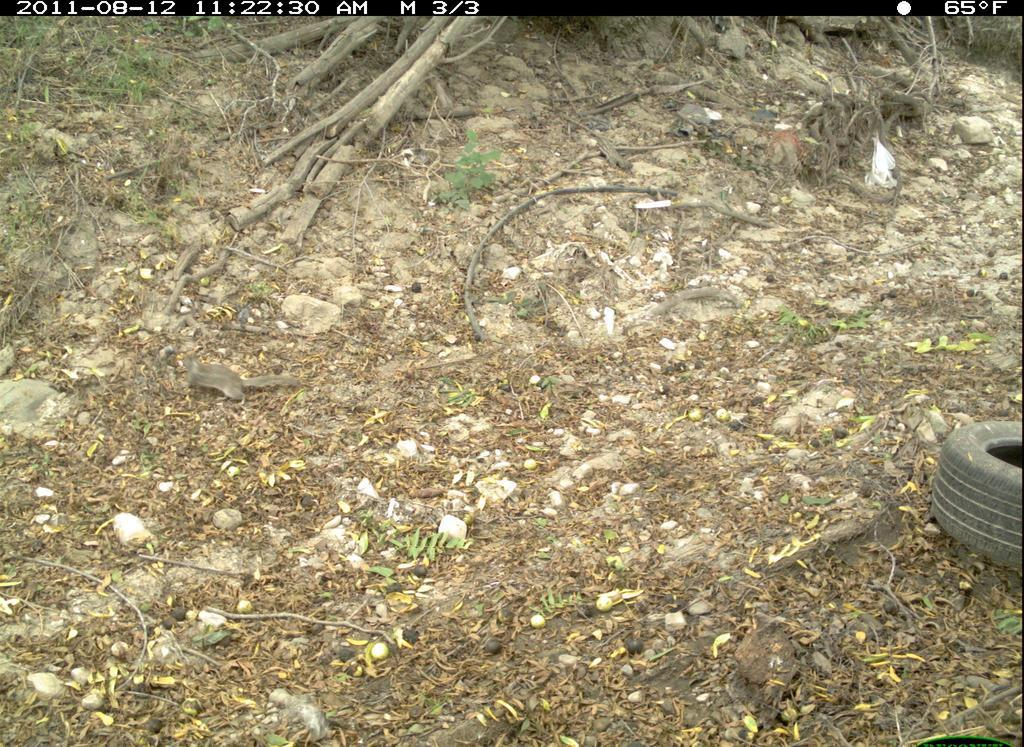squirrel: (179, 349, 300, 412)
